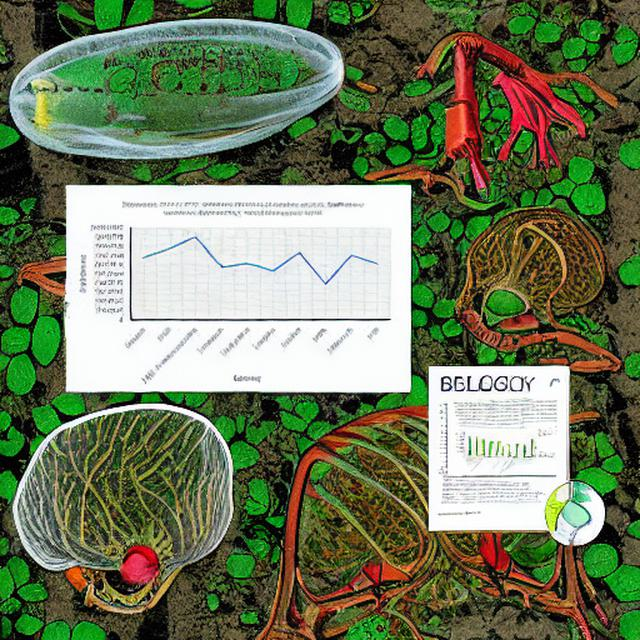Graph: (76, 195, 397, 387), (451, 421, 537, 473)
